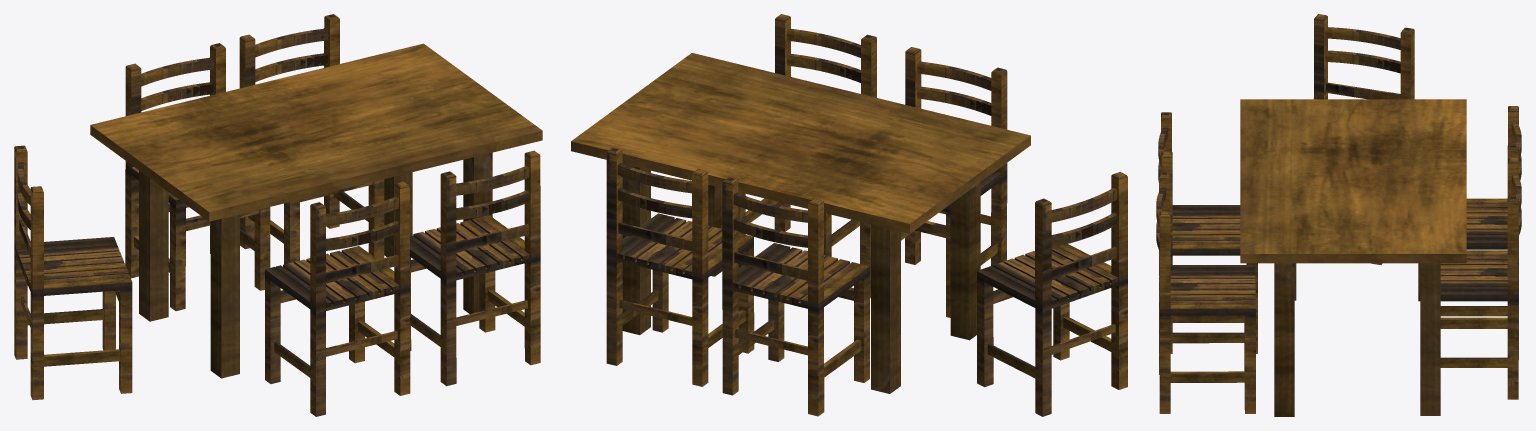
Rendered from comedorconSillas.obj.
3 renders of one model, left to right at view 1: azimuth 30°, elevation 25°; view 2: azimuth 150°, elevation 25°; view 3: azimuth 270°, elevation 25°, orthographic. The views are drawn at different scales.
Visible parts, largest first — view 1: Mesh2Group1Model6; view 2: Mesh2Group1Model6; view 3: Mesh2Group1Model6.
Part boxes in pixels (bbox=[...]): Mesh2Group1Model6: bbox=[14, 14, 542, 416]; Mesh2Group1Model6: bbox=[571, 14, 1127, 416]; Mesh2Group1Model6: bbox=[1156, 14, 1521, 416].
Bounding box in the file's own units: 2.53 × 1.11 × 1.79.
Materials: 2 (2 with a texture image).
